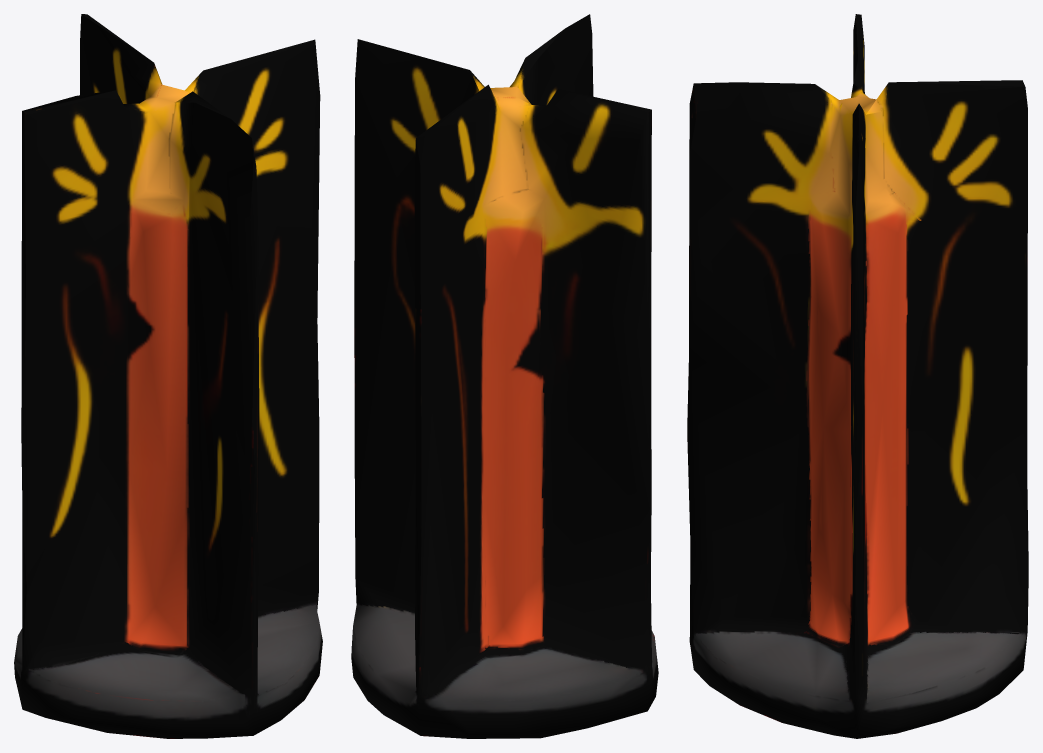
Rendered from rad-rod.glb.
3 views of the same model, side by side, from view 1: azimuth 30°, elevation 25°; view 2: azimuth 150°, elevation 25°; view 3: azimuth 270°, elevation 25° (orthographic). The views are drawn at different scales.
Visible parts, largest first — view 1: geometry_0.001; view 2: geometry_0.001; view 3: geometry_0.001.
Boxes of the visible parts, box(x1,y1,x2,y2) form: geometry_0.001: box(14, 14, 322, 738); geometry_0.001: box(351, 14, 658, 738); geometry_0.001: box(687, 14, 1028, 738).
Bounding box in the file's own units: 0.5134 × 0.9978 × 0.5224.
Materials: 1 (1 with a texture image).
